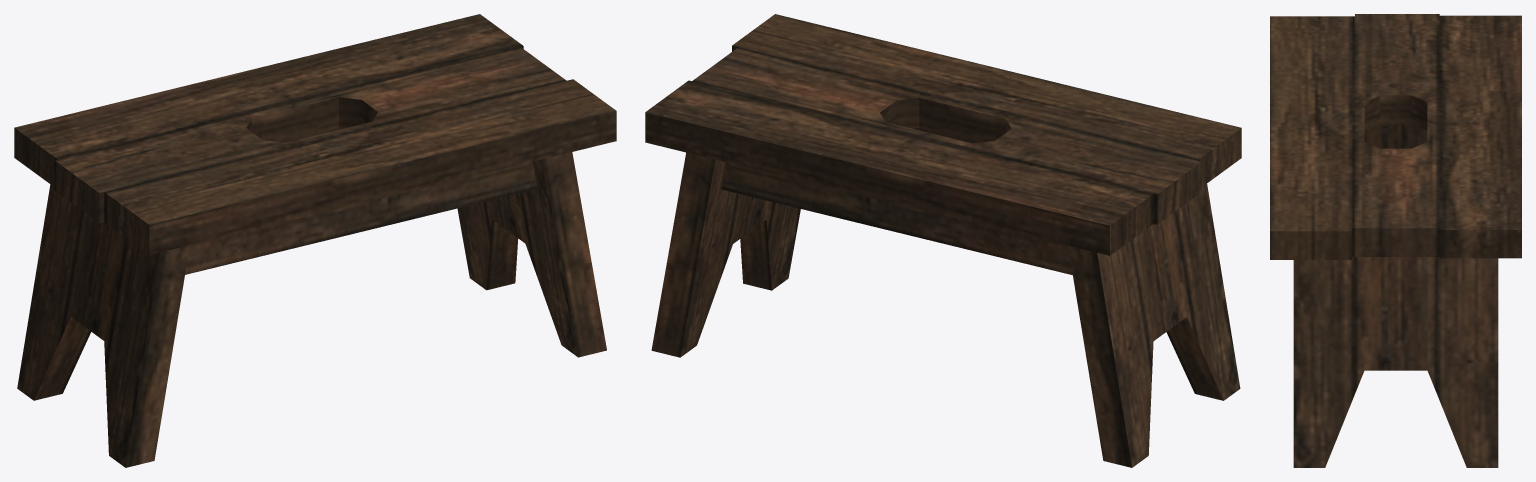
File: stool_mx_1.obj
3 views of the same model, side by side, from view 1: azimuth 30°, elevation 25°; view 2: azimuth 150°, elevation 25°; view 3: azimuth 270°, elevation 25° (orthographic). The views are drawn at different scales.
Visible parts, largest first — view 1: stool_mx_1; view 2: stool_mx_1; view 3: stool_mx_1.
Part boxes in pixels (x1=…): stool_mx_1: x1=14, y1=14, x2=616, y2=467; stool_mx_1: x1=645, y1=14, x2=1241, y2=467; stool_mx_1: x1=1270, y1=14, x2=1521, y2=467.
Bounding box in the file's own units: 0.6665 × 0.33 × 0.32.
